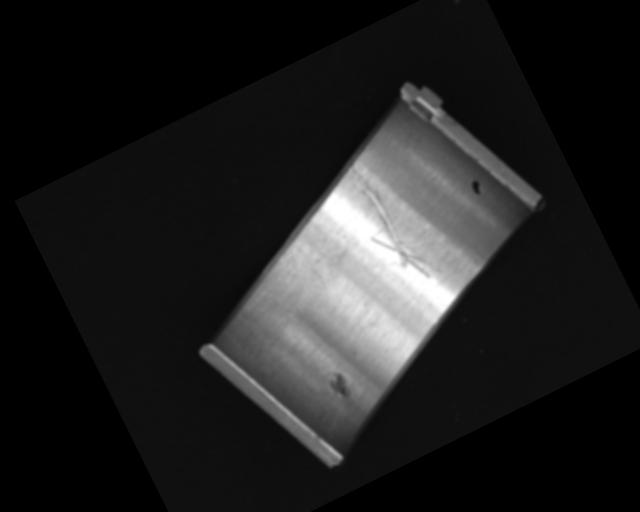blot: (467, 177, 486, 198)
bruise: (325, 369, 354, 403)
nick: (334, 149, 440, 294)
scratch: (217, 230, 348, 342)
